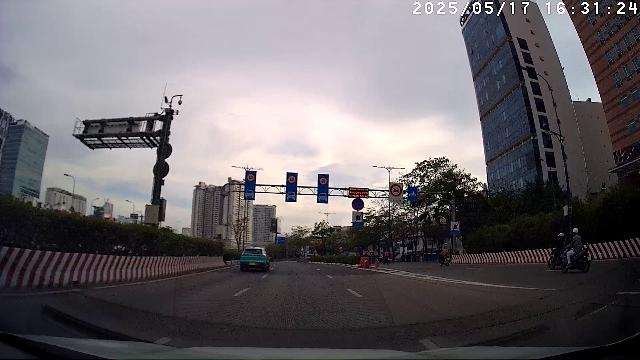103a-cam-oto: (390, 184, 402, 197)
127-toc-do-toi-da-60: (320, 177, 328, 185), (288, 176, 296, 184), (247, 174, 255, 182)
